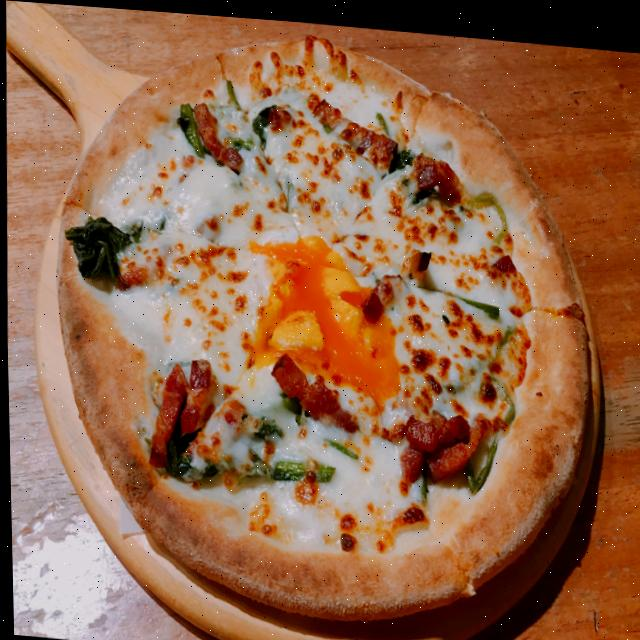pizza: (43, 5, 601, 638)
